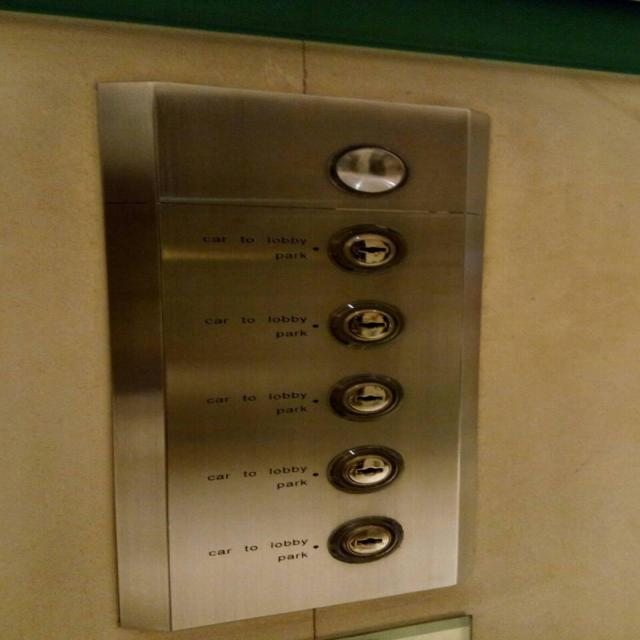empty: (326, 143, 409, 197)
keyhole: (327, 223, 408, 276), (326, 298, 407, 349), (324, 444, 404, 494), (327, 372, 406, 421), (326, 516, 404, 564)
